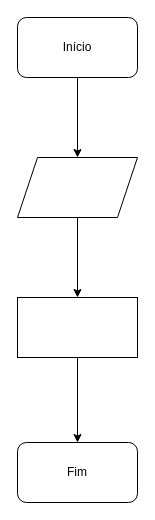
Image size: 155x520. Some labels were removed from this diagram. Each missing label, with the box of its shape:
Adicionar o evento de submissão e incluir uma função anônima: (16, 296, 138, 358)
Obter o elemento form: (16, 156, 138, 218)
